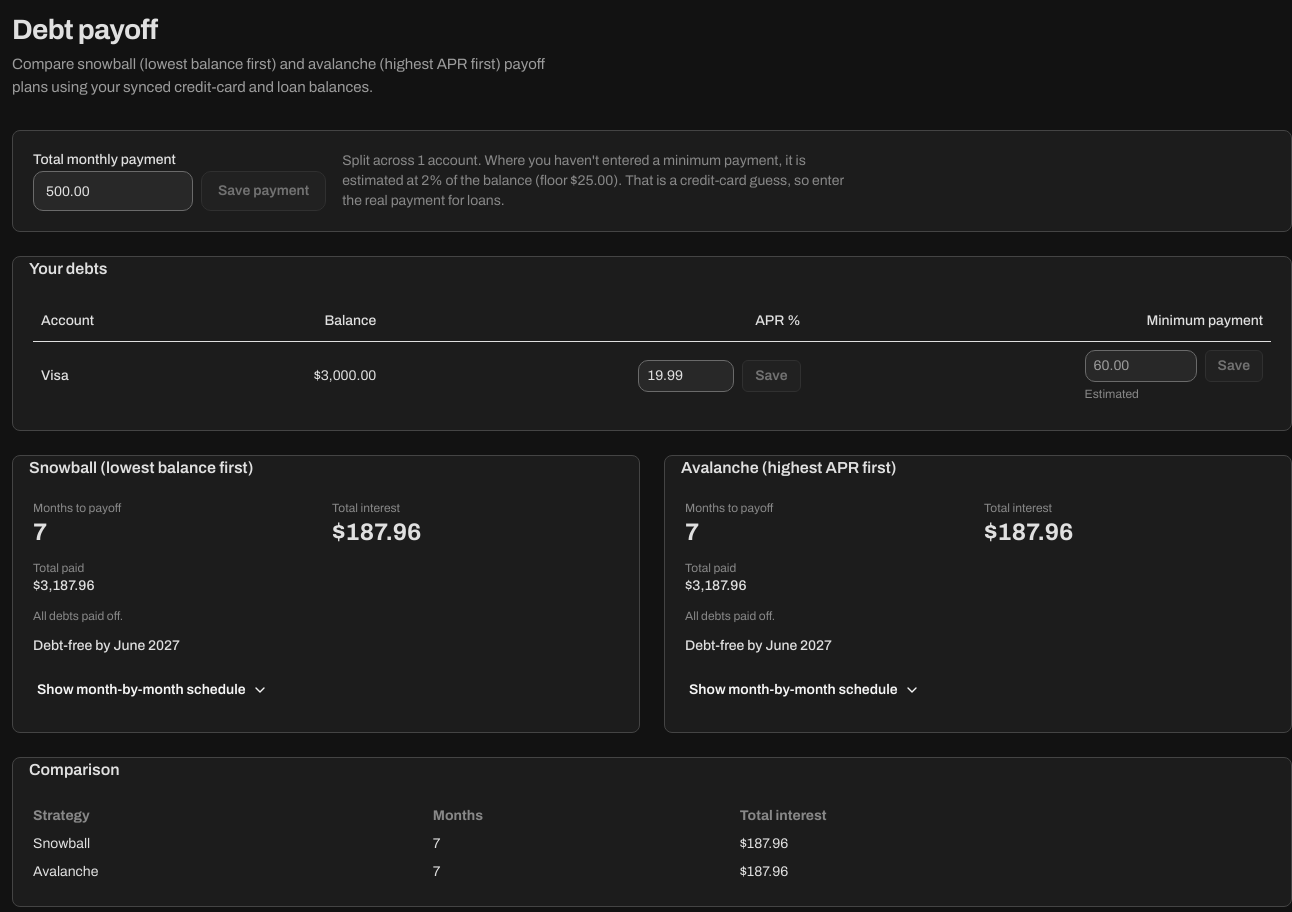
DebtPayoffView minimum payment › saves an edited minimum in cents, then reloads
Type "$125.5" into the field named "Minimum payment $ for Visa" at (1141,366), box 1085,350 -> 1197,382
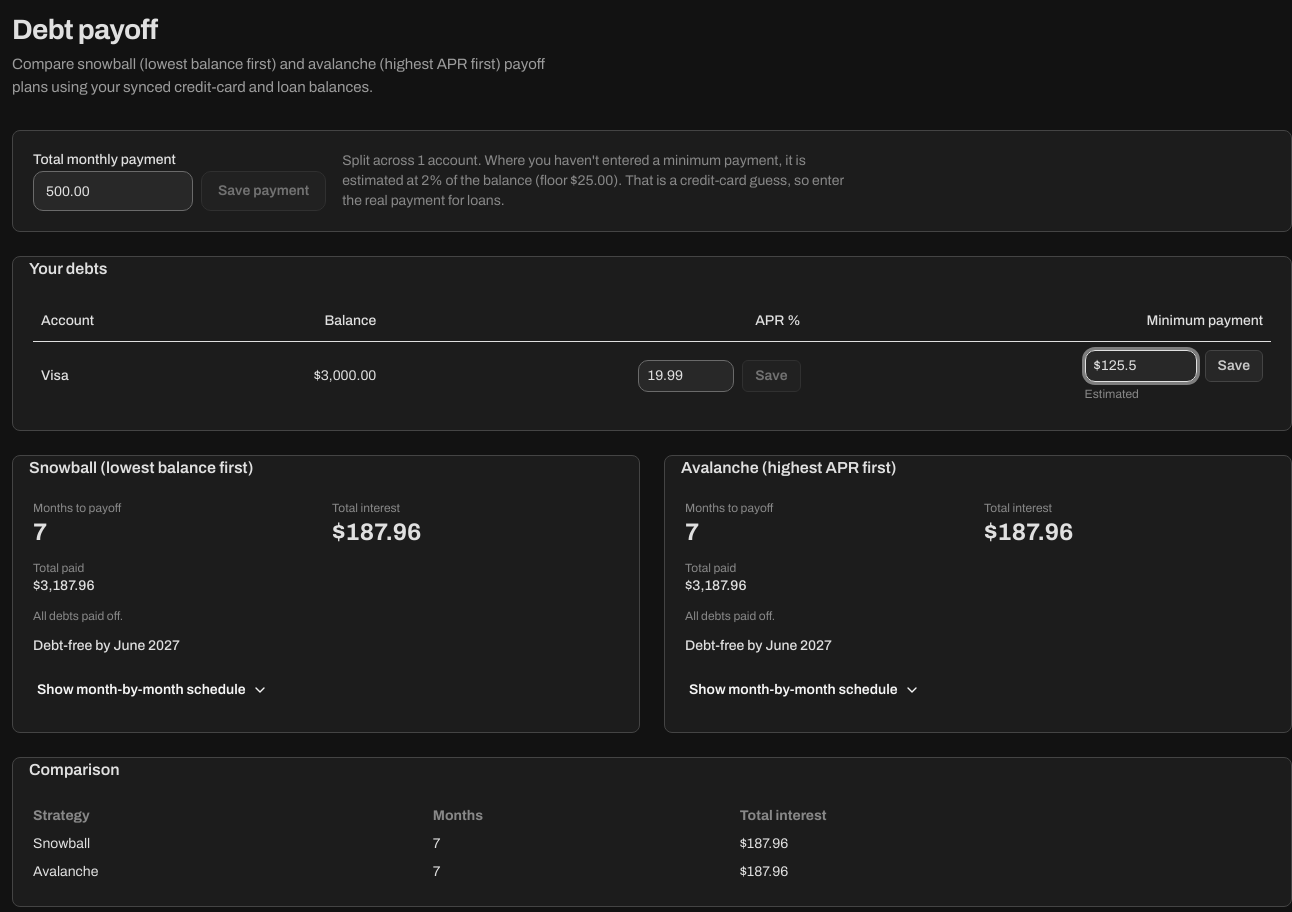
Click the button with test id "debt-min-save-conn1:a1" at (1234,366), box 1205,350 -> 1263,382
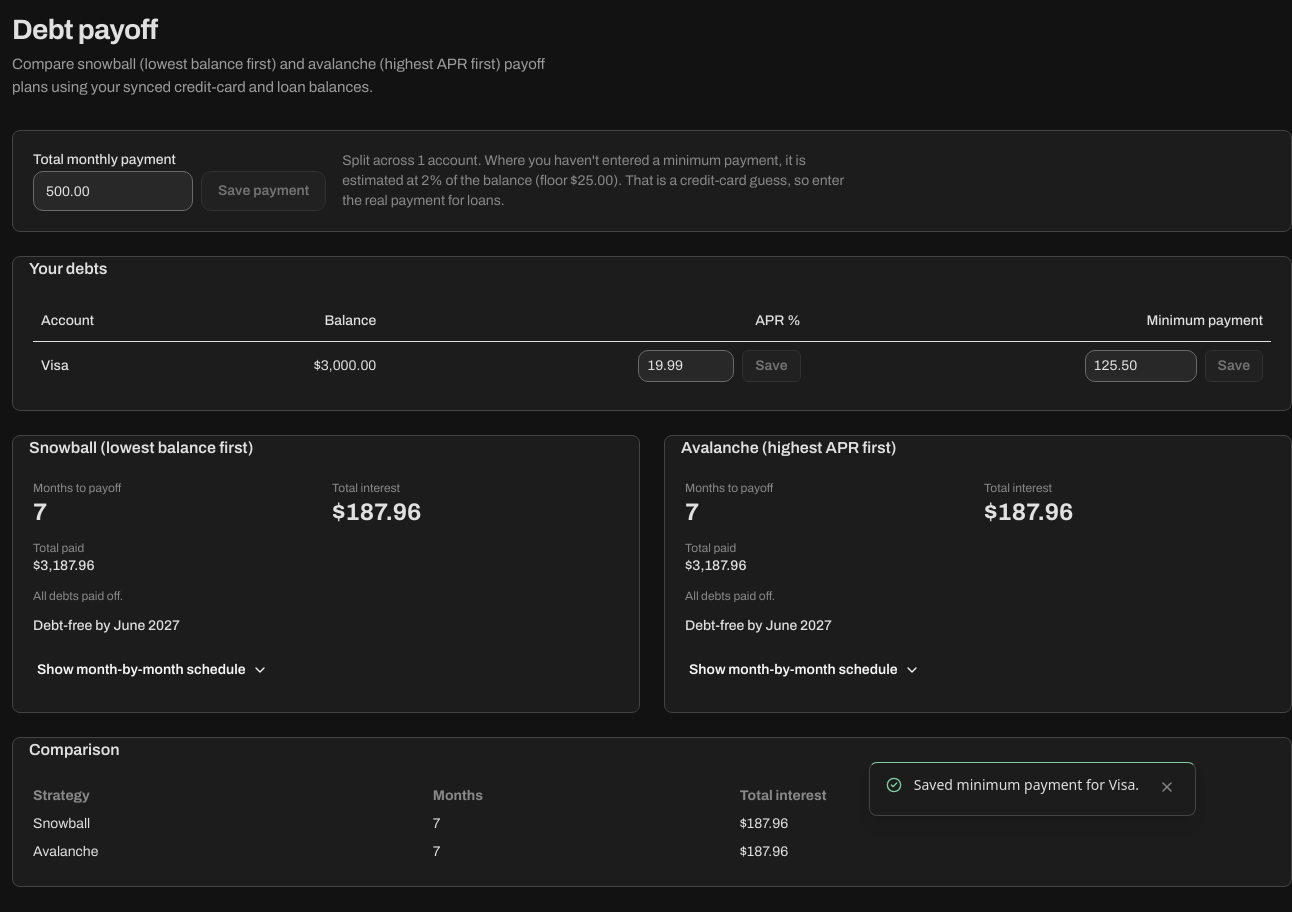
Expected: the field named "Minimum payment $ for Visa" holds "125.50", 1085,350 -> 1197,382
